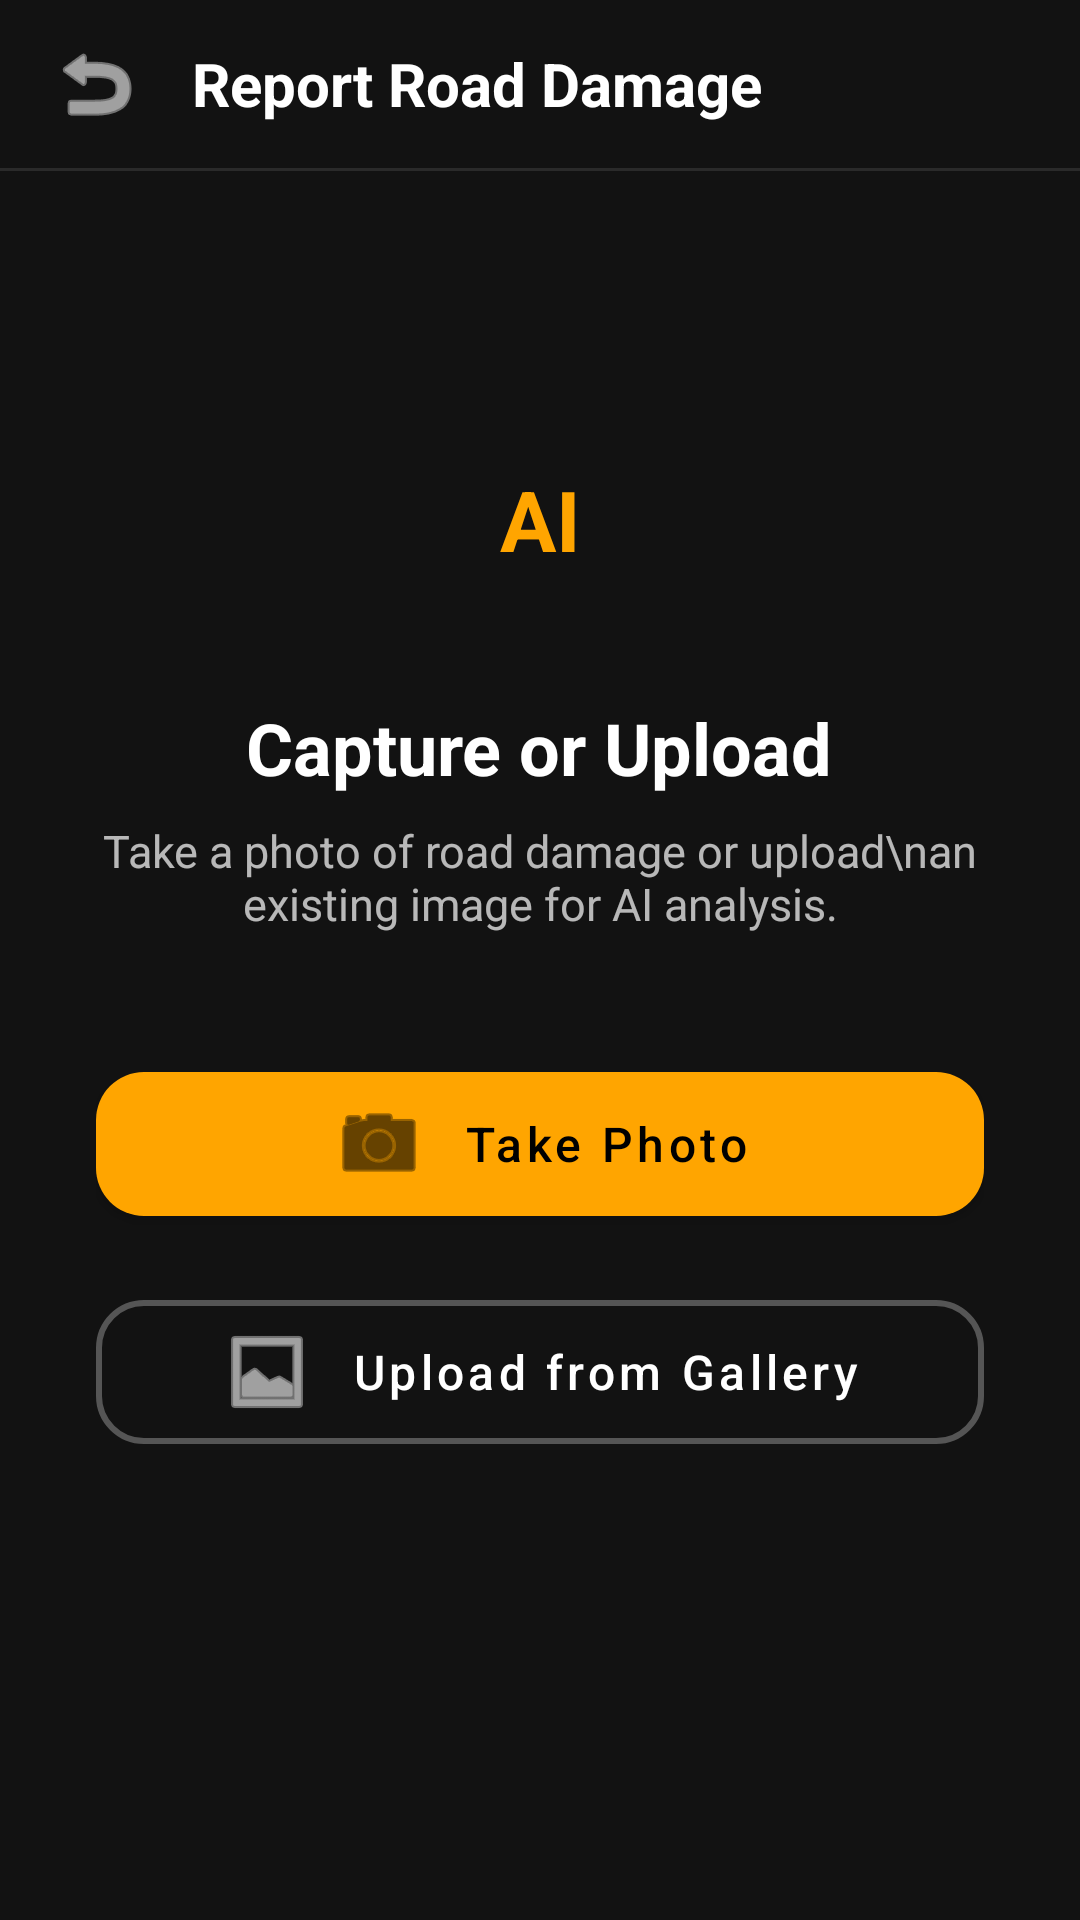

Where to tap for icons on this 1080w x 1920h app screen, as [x,y]:
Back: [97,84]
